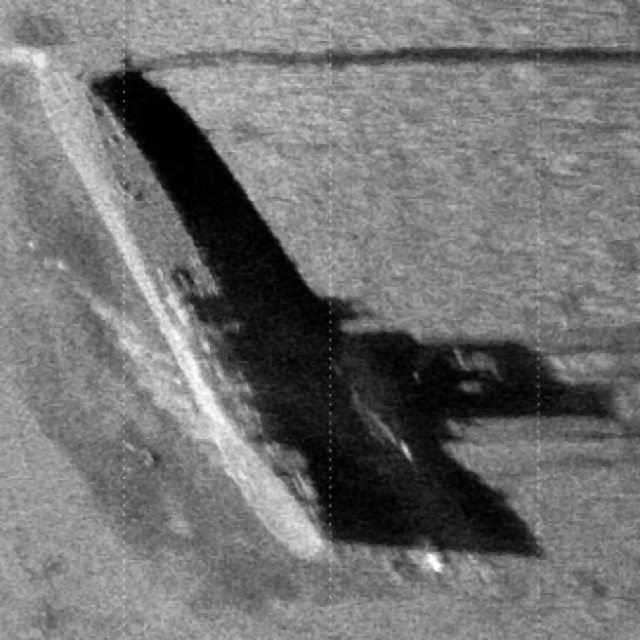Ship: (23, 52, 348, 588)
